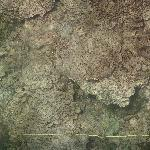dead: (1, 3, 143, 143)
